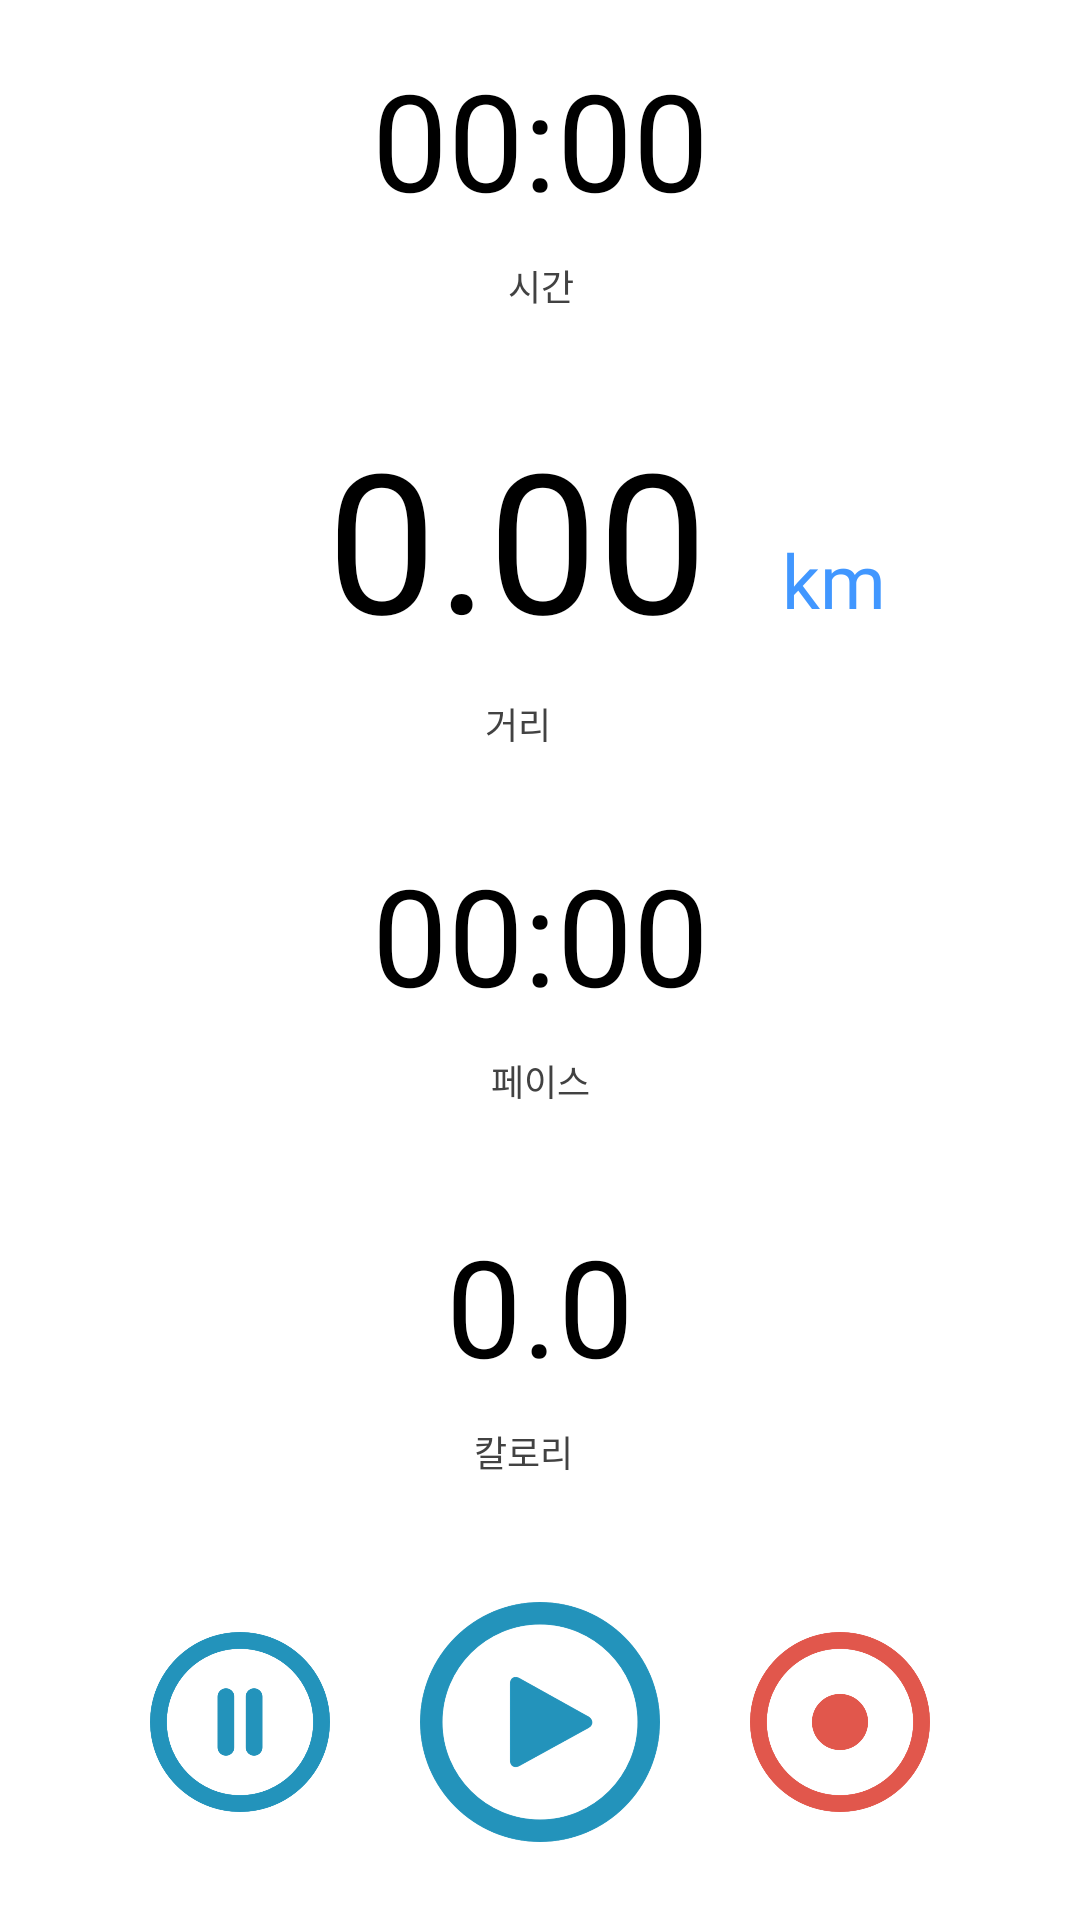

Point at icon controls on the screen. Image size 1080px×1920px, points as point (x, y).
pause: point (240, 1722)
play: point (540, 1722)
record: point (840, 1722)
